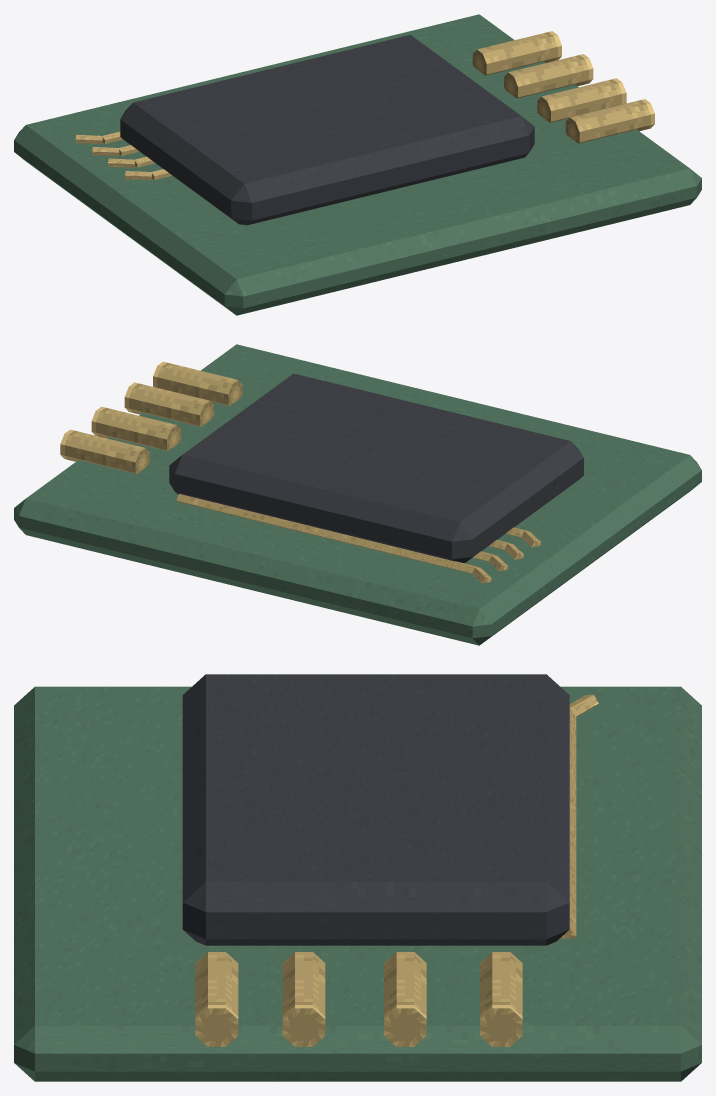
File: transponder.glb
3 renders of one model, top to bottom at view 1: azimuth 30°, elevation 25°; view 2: azimuth 150°, elevation 25°; view 3: azimuth 270°, elevation 25°, orthographic. The views are drawn at different scales.
Parts seen in each view (by area): view 1: block_circuit substrate, block_transponder chip, block_edge contact (×4); view 2: block_circuit substrate, block_transponder chip, block_edge contact (×4), block_printed antenna 1; view 3: block_circuit substrate, block_transponder chip, block_edge contact (×4), block_printed antenna 1.
Part boxes in pixels (left/top/right/bottom): block_circuit substrate: left=14, top=14, right=701, bottom=315; block_transponder chip: left=120, top=35, right=534, bottom=225; block_edge contact (×4): left=472, top=31, right=654, bottom=143; block_circuit substrate: left=14, top=344, right=701, bottom=645; block_transponder chip: left=169, top=373, right=583, bottom=562; block_edge contact (×4): left=60, top=361, right=242, bottom=473; block_printed antenna 1: left=176, top=494, right=478, bottom=573; block_circuit substrate: left=14, top=686, right=701, bottom=1081; block_transponder chip: left=182, top=674, right=569, bottom=945; block_edge contact (×4): left=195, top=952, right=522, bottom=1046; block_printed antenna 1: left=560, top=708, right=576, bottom=938.
Bounding box in the file's own units: 0.1184 × 0.0177 × 0.0954.
Materials: 1 (1 with a texture image).
